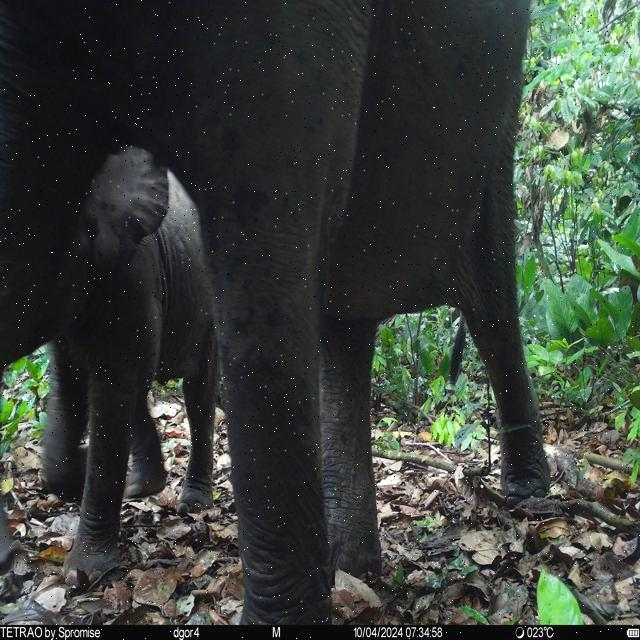calf: (46, 147, 218, 586)
elephant: (1, 1, 550, 624)
